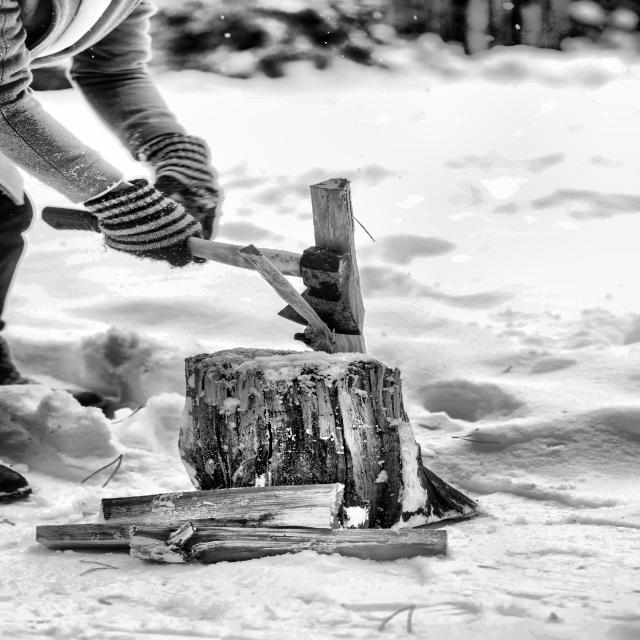kapak: (37, 189, 385, 350)
